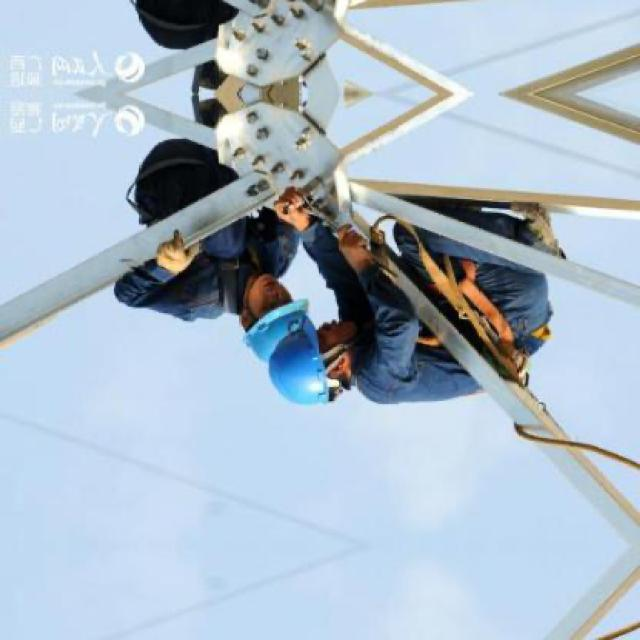con casco: (216, 275, 324, 369), (273, 316, 362, 418)
